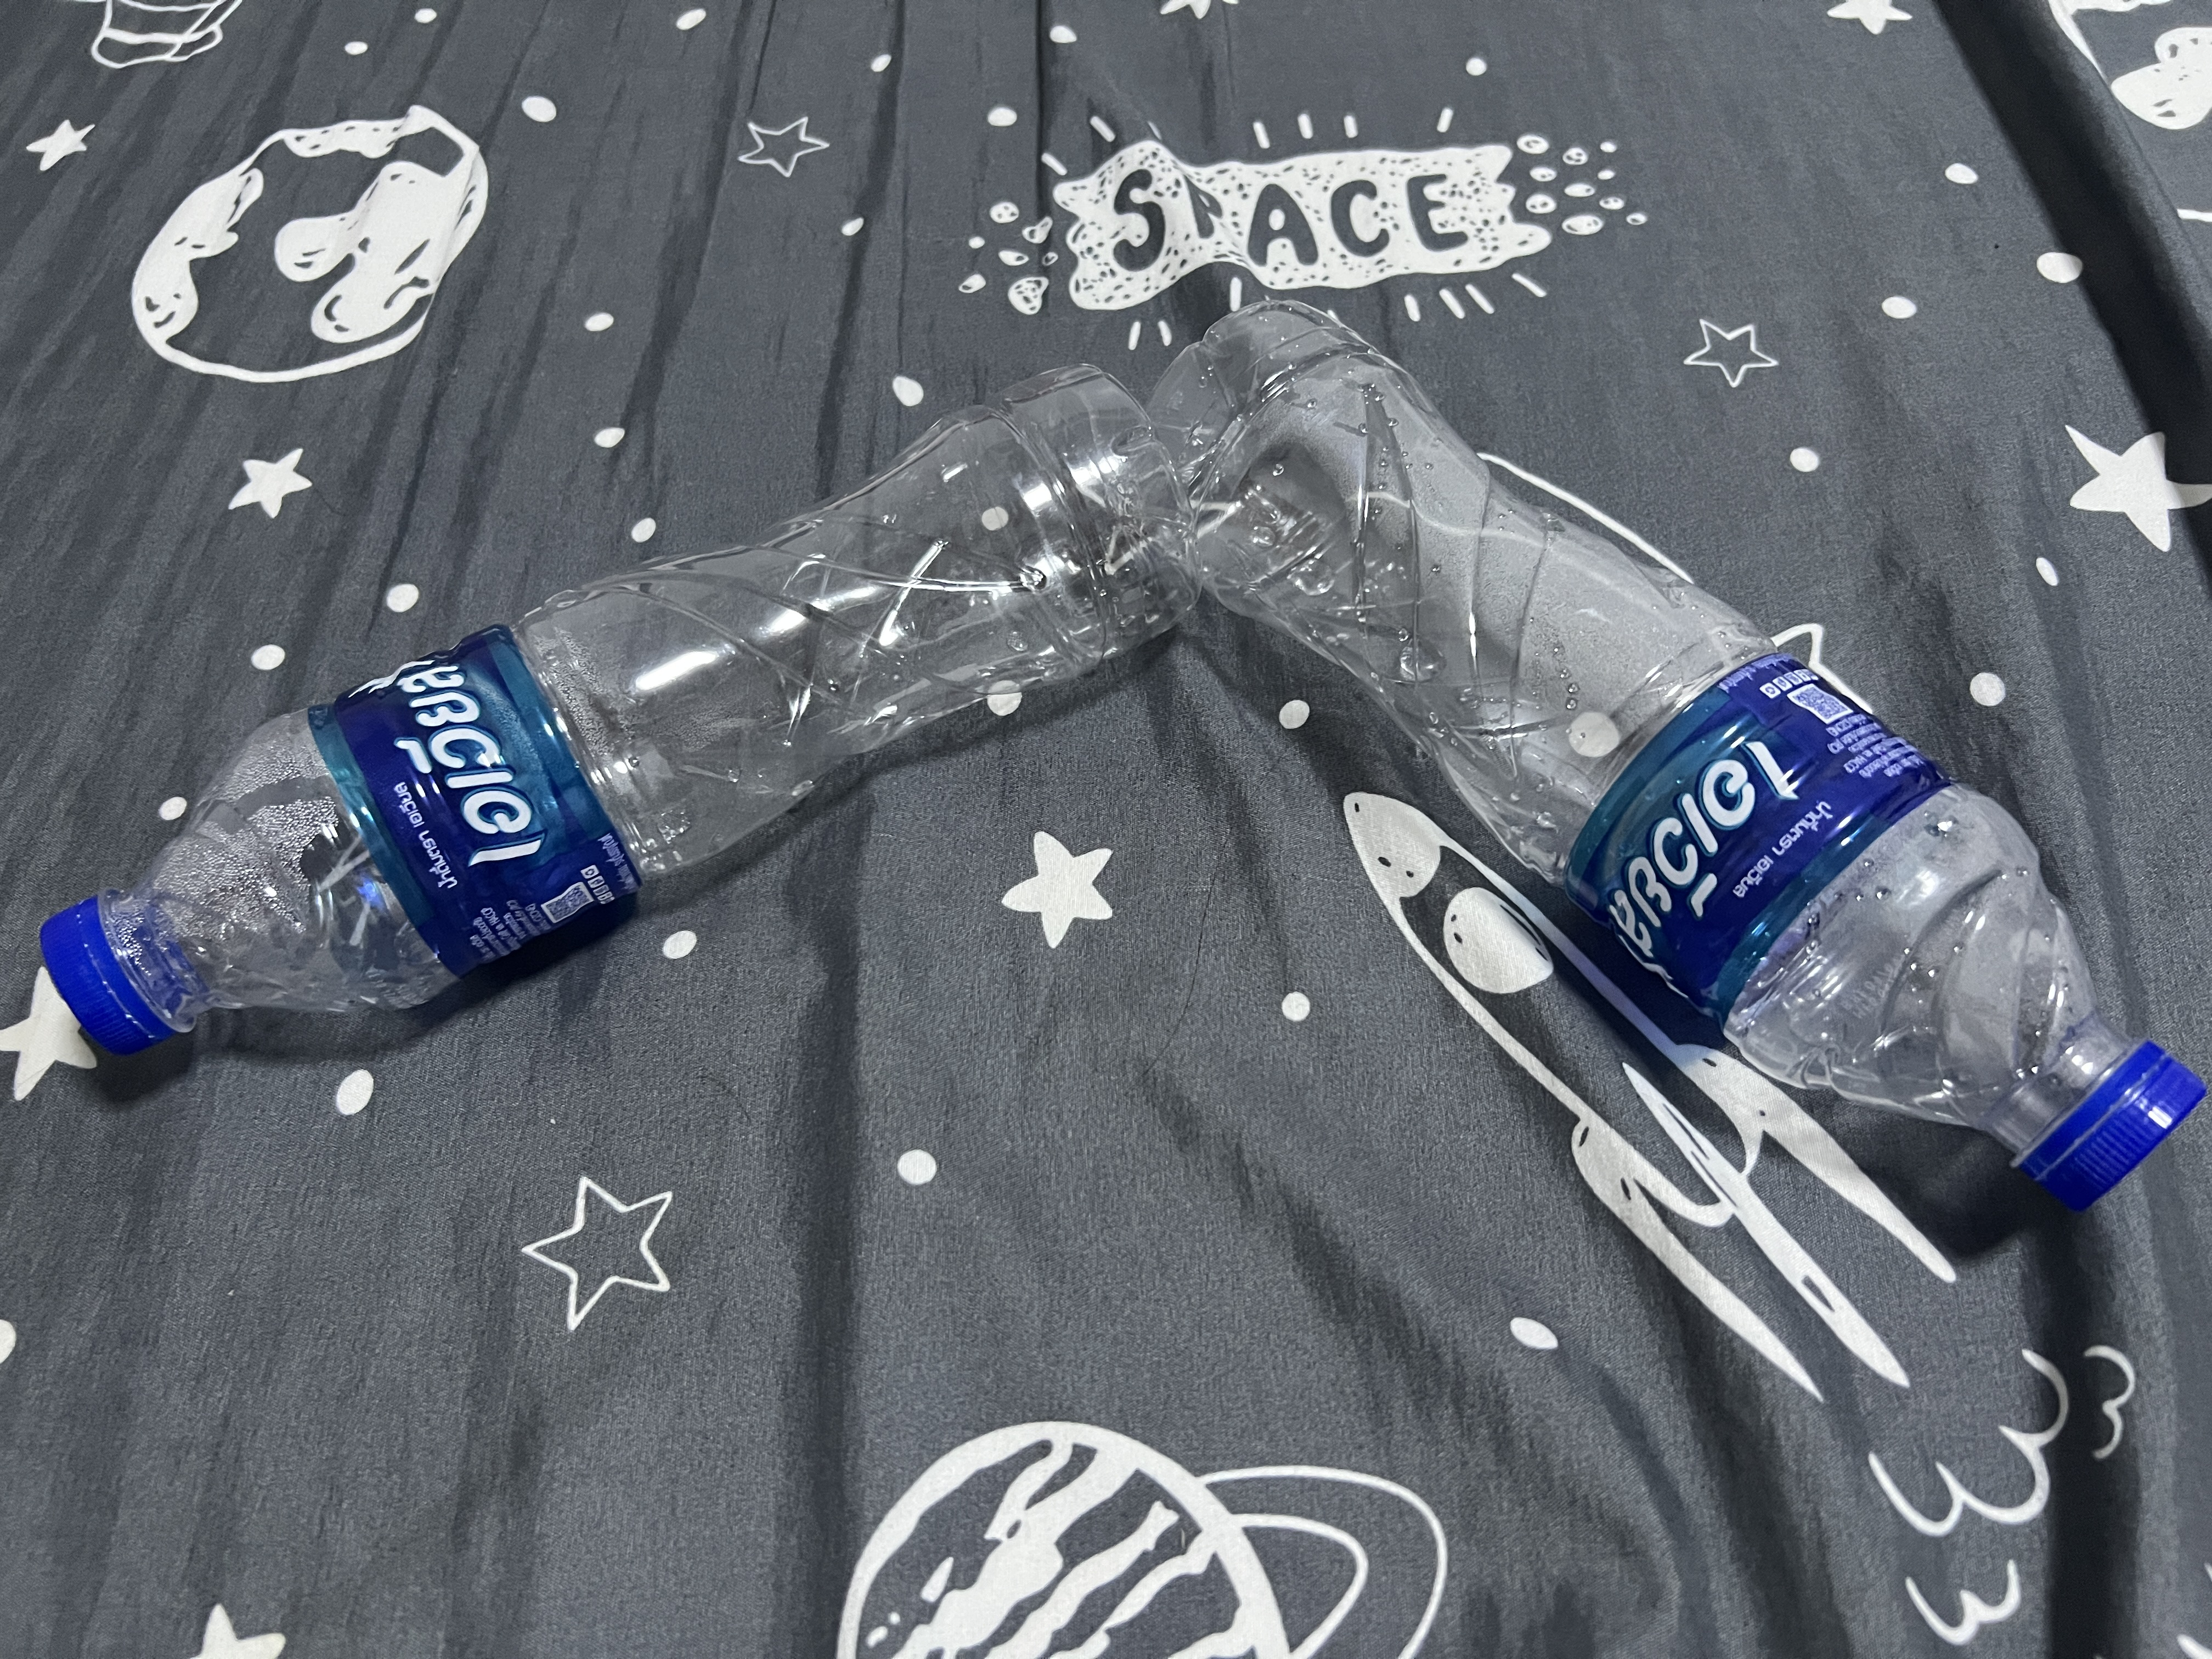plastic_bottle: (1137, 258, 2212, 1253), (0, 340, 1160, 1171)
